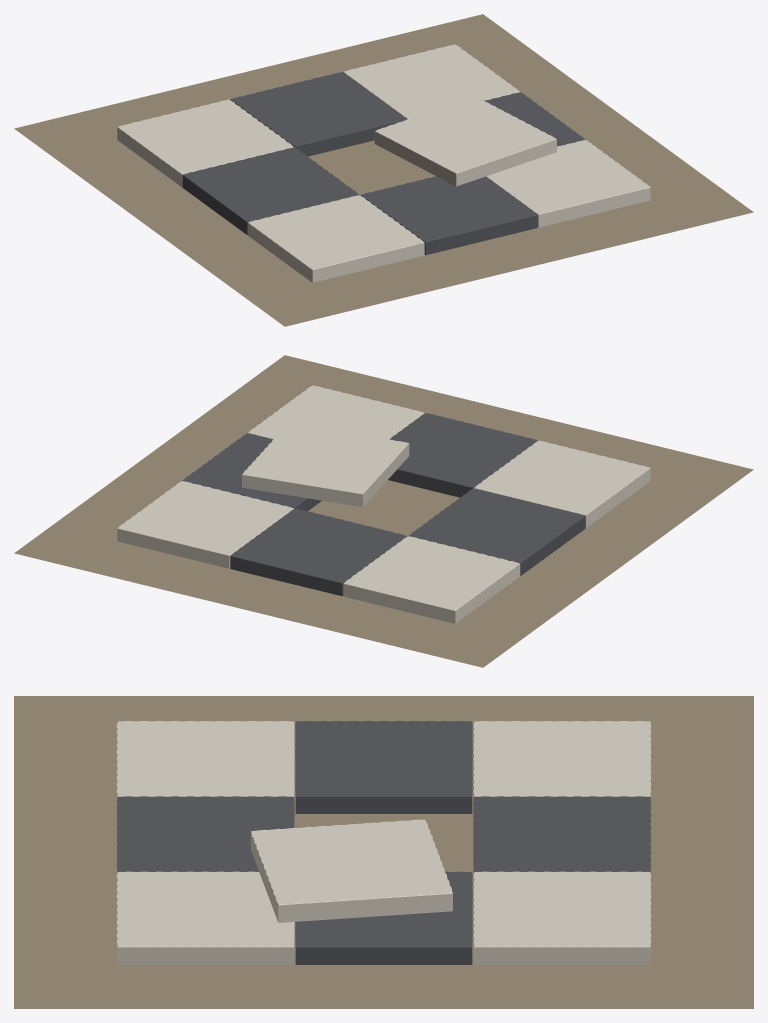
File: terilgan.glb
The picture shows the model from 3 angles, top to bottom: view 1: azimuth 30°, elevation 25°; view 2: azimuth 150°, elevation 25°; view 3: azimuth 270°, elevation 25°; orthographic projection. The views are drawn at different scales.
Visible parts, largest first — view 1: qum, t.004, t, t.007, t.001, t.003, t.006, t.002, t.008, t.005; view 2: qum, t.006, t.004, t.007, t.008, t.003, t, t.001, t.002, t.005; view 3: qum, t.004, t.008, t.003, t.002, t.007, t, t.006, t.001, t.005.
Part boxes in pixels (x1,y1,x2,y2): qum: (14, 14, 753, 326); t.004: (374, 96, 556, 186); t: (247, 195, 424, 282); t.007: (230, 72, 406, 156); t.001: (360, 176, 537, 255); t.003: (182, 147, 358, 234); t.006: (117, 99, 293, 186); t.002: (485, 140, 650, 227); t.008: (343, 44, 519, 119); t.005: (484, 92, 585, 146); qum: (14, 355, 753, 667); t.006: (343, 536, 520, 623); t.004: (242, 423, 409, 507); t.007: (230, 508, 407, 596); t.008: (117, 481, 293, 568); t.003: (409, 488, 585, 575); t: (474, 440, 650, 527); t.001: (388, 413, 537, 497); t.002: (248, 385, 424, 439); t.005: (182, 433, 321, 511); qum: (14, 696, 753, 1008); t.004: (250, 819, 452, 922); t.008: (473, 871, 651, 964); t.003: (295, 721, 472, 813); t.002: (116, 871, 294, 964); t.007: (473, 796, 651, 872); t: (116, 721, 294, 796); t.006: (473, 721, 651, 796); t.001: (116, 796, 294, 872); t.005: (295, 871, 472, 964).
Size of the model in its own units: 1.66 by 0.092 by 1.66.
